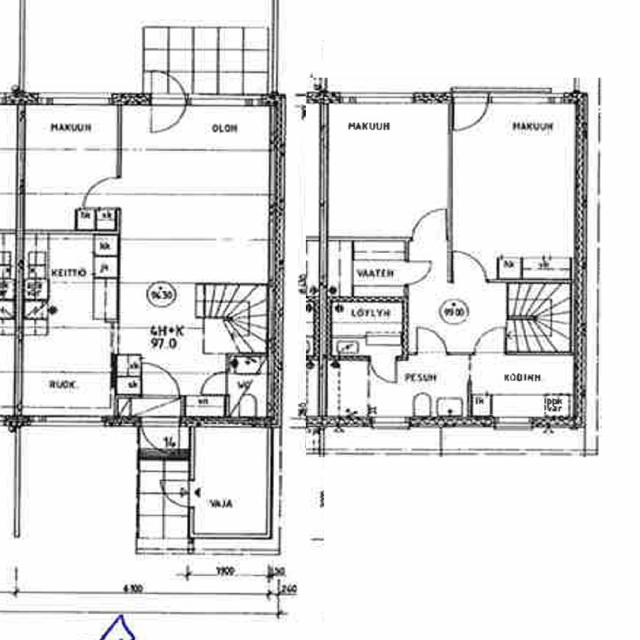door: (150, 91, 187, 137), (150, 59, 187, 104), (141, 416, 178, 460), (454, 92, 488, 133), (143, 363, 178, 398), (453, 248, 487, 283), (413, 207, 445, 240), (84, 177, 120, 206), (157, 478, 194, 506), (417, 325, 447, 355), (475, 325, 505, 355), (404, 261, 436, 285), (370, 355, 396, 383), (199, 372, 229, 394)
